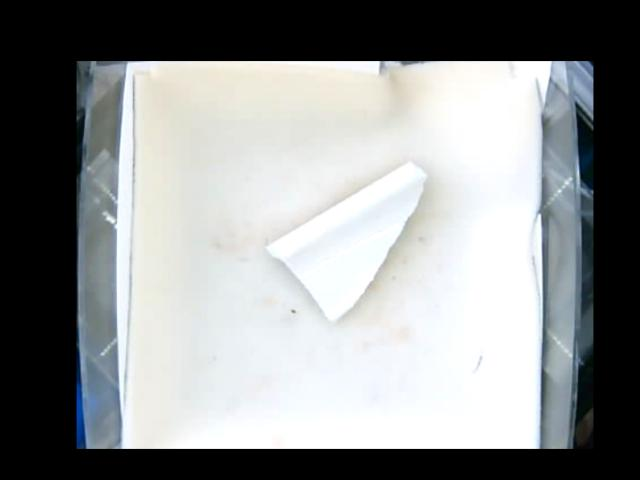China: (269, 162, 428, 321)
